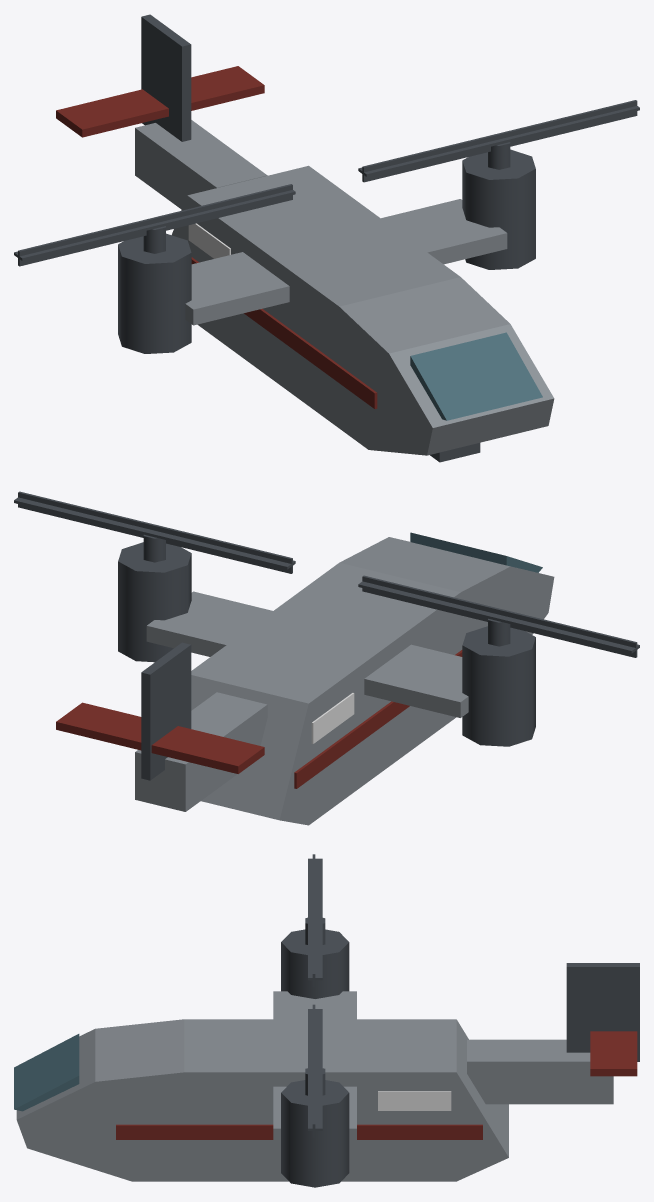
3 renders of one model, top to bottom at view 1: azimuth 30°, elevation 25°; view 2: azimuth 150°, elevation 25°; view 3: azimuth 270°, elevation 25°, orthographic. The views are drawn at different scales.
Parts seen in each view (by area): view 1: garde_body_vertibird; view 2: garde_body_vertibird; view 3: garde_body_vertibird.
Part boxes in pixels (bbox=[...]): garde_body_vertibird: bbox=[14, 14, 639, 462]; garde_body_vertibird: bbox=[14, 491, 639, 825]; garde_body_vertibird: bbox=[14, 854, 639, 1187].
Bounding box in the file's own units: 12.2 × 4 × 11.95.
